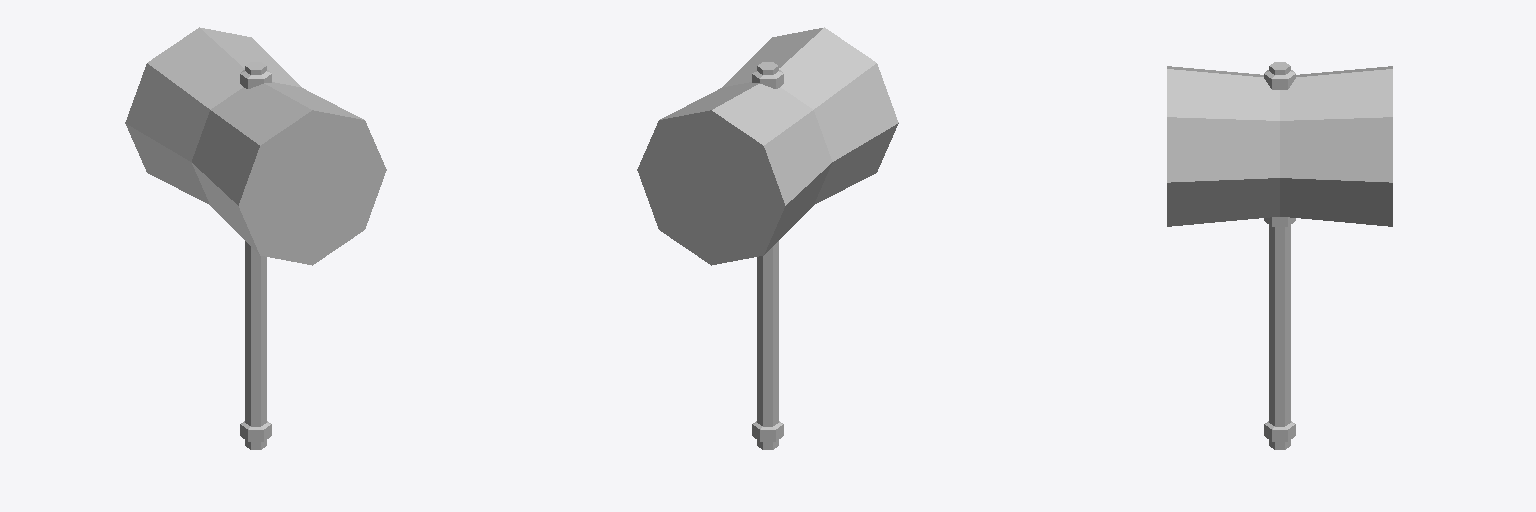
Rendered from hammer.obj.
The picture shows the model from 3 angles: view 1: azimuth 30°, elevation 25°; view 2: azimuth 150°, elevation 25°; view 3: azimuth 270°, elevation 25°; orthographic projection.
Parts seen in each view (by area): view 1: Sword.001; view 2: Sword.001; view 3: Sword.001.
Boxes of the visible parts, box(x1,y1,x2,y2) form: Sword.001: box(125, 27, 386, 449); Sword.001: box(637, 27, 898, 449); Sword.001: box(1167, 62, 1392, 449).
Bounding box in the file's own units: 1.52 × 3.72 × 2.01.